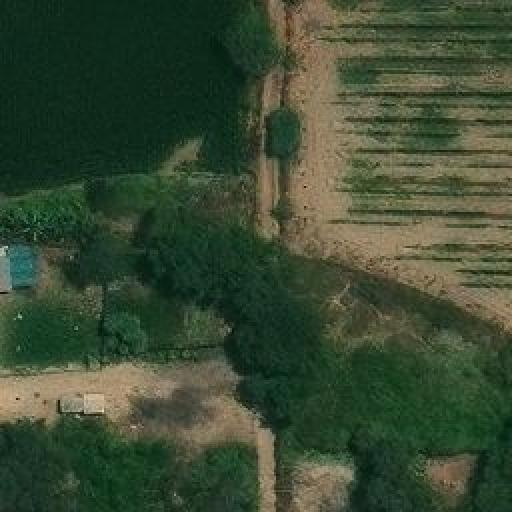manzanas: (0, 244, 39, 299), (51, 385, 108, 417)
